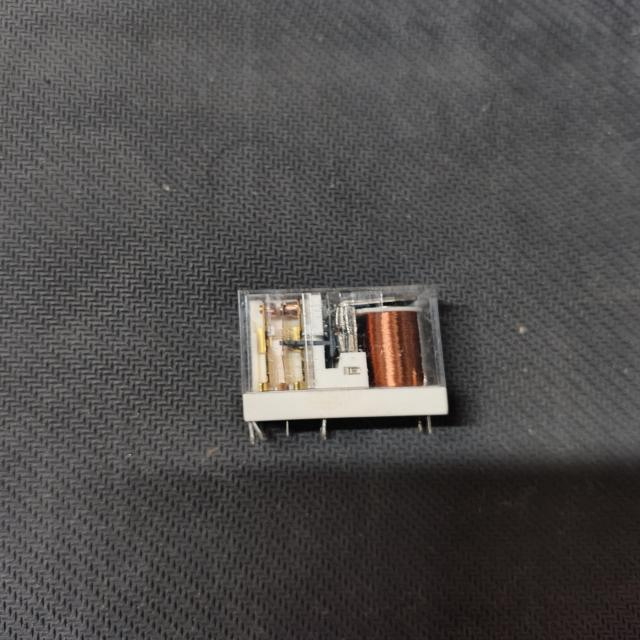relay: (223, 271, 467, 452)
